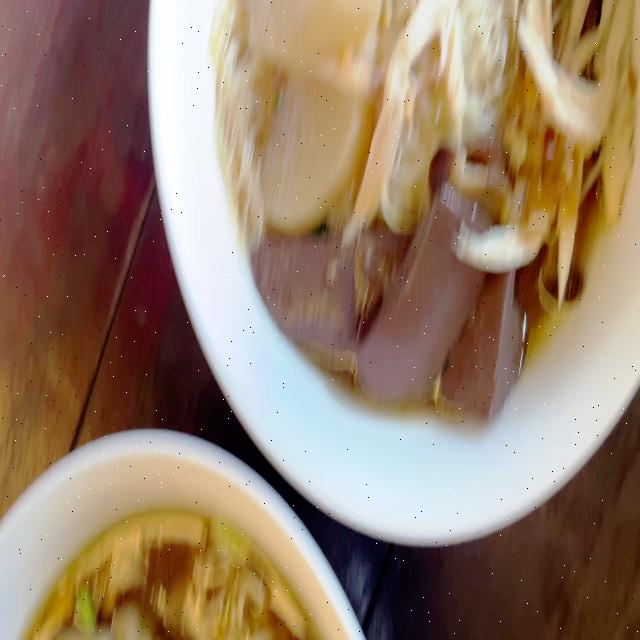boiled_chicken_blood_jelly: (251, 226, 529, 424), (368, 218, 492, 402), (254, 232, 362, 357), (460, 259, 520, 420)
chicken_shredded: (523, 0, 628, 277), (353, 0, 435, 238)
daikon_radish: (256, 0, 366, 208)
noodle: (217, 0, 635, 403), (45, 488, 353, 640)
